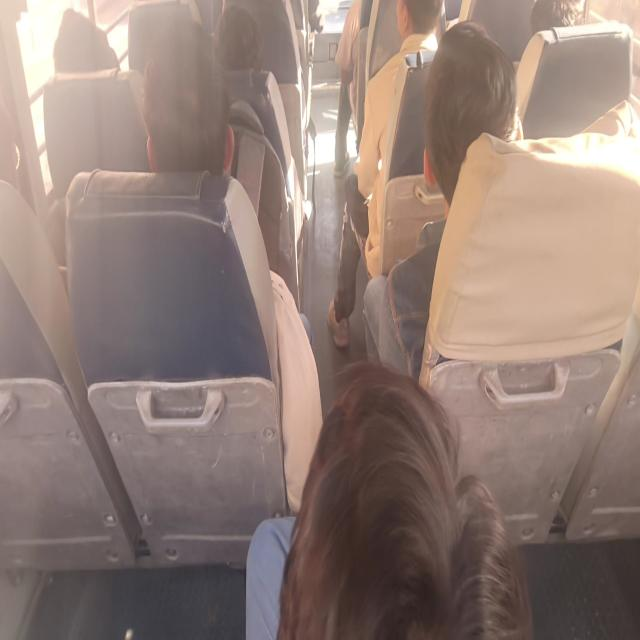person: (309, 365, 518, 640), (144, 27, 241, 193), (426, 48, 522, 198), (56, 9, 118, 78), (213, 0, 261, 68), (530, 0, 586, 53), (391, 0, 441, 53)
